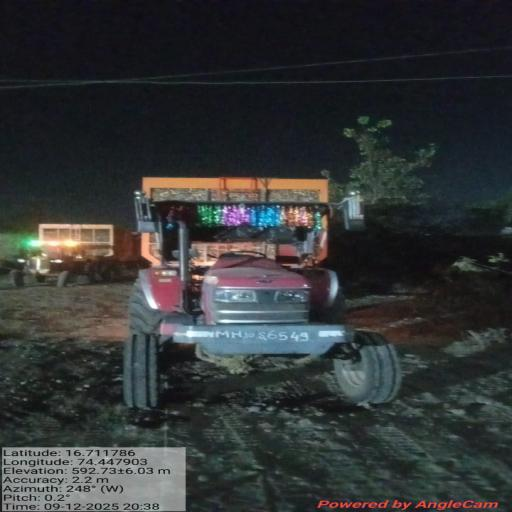number_plate: (214, 323, 324, 350)
